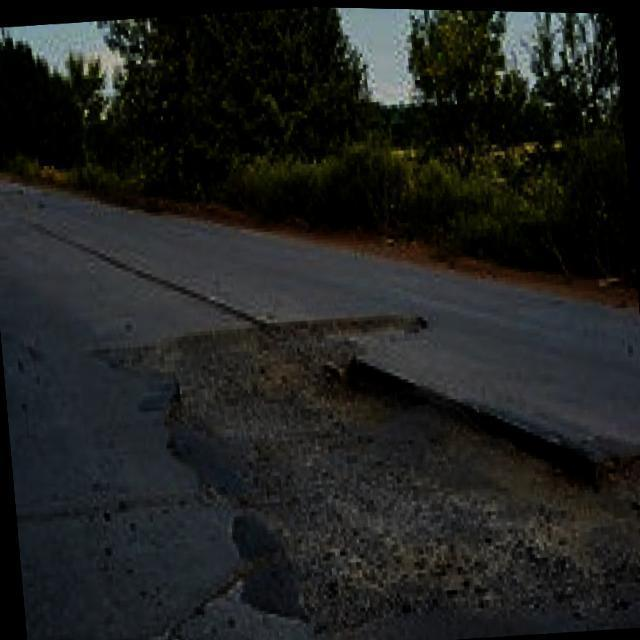Pothole: (107, 311, 640, 627)
